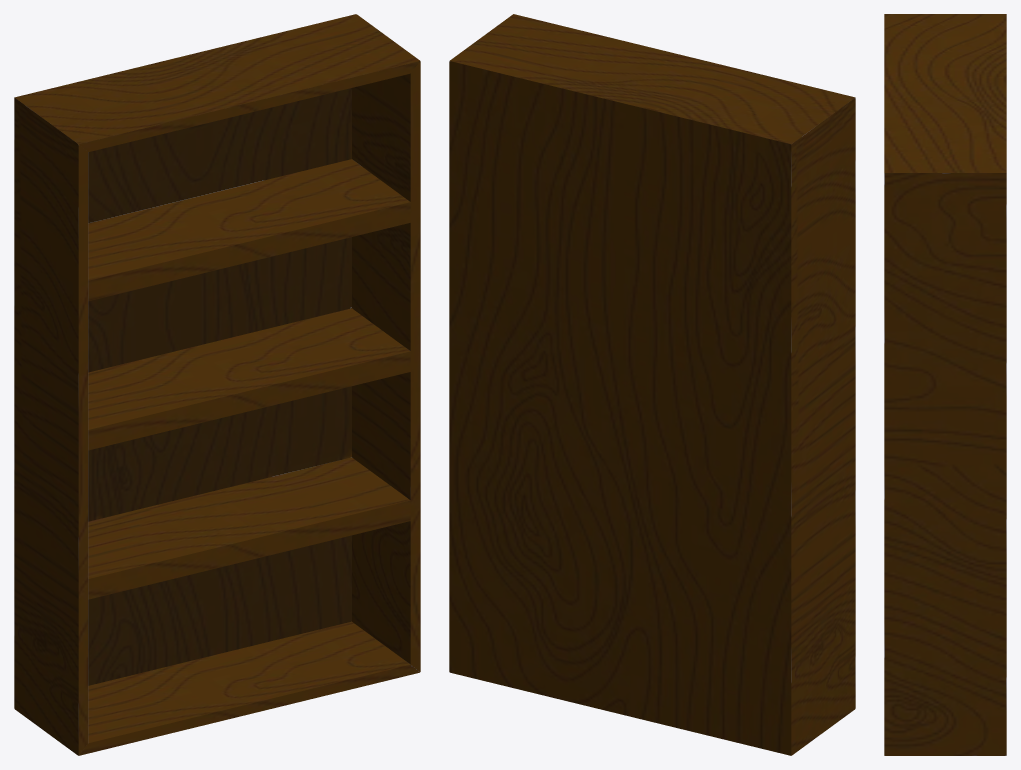
Rendered from Bookshelf.fbx.
The picture shows the model from 3 angles, left to right: view 1: azimuth 30°, elevation 25°; view 2: azimuth 150°, elevation 25°; view 3: azimuth 270°, elevation 25°; orthographic projection. The views are drawn at different scales.
Visible parts, largest first — view 1: Bookshelf; view 2: Bookshelf; view 3: Bookshelf.
Part boxes in pixels (box(x1,y1,x2,y2)): Bookshelf: box(14, 14, 420, 755); Bookshelf: box(449, 14, 855, 755); Bookshelf: box(884, 14, 1006, 755).
Bounding box in the file's own units: 103 × 176 × 33.45.
